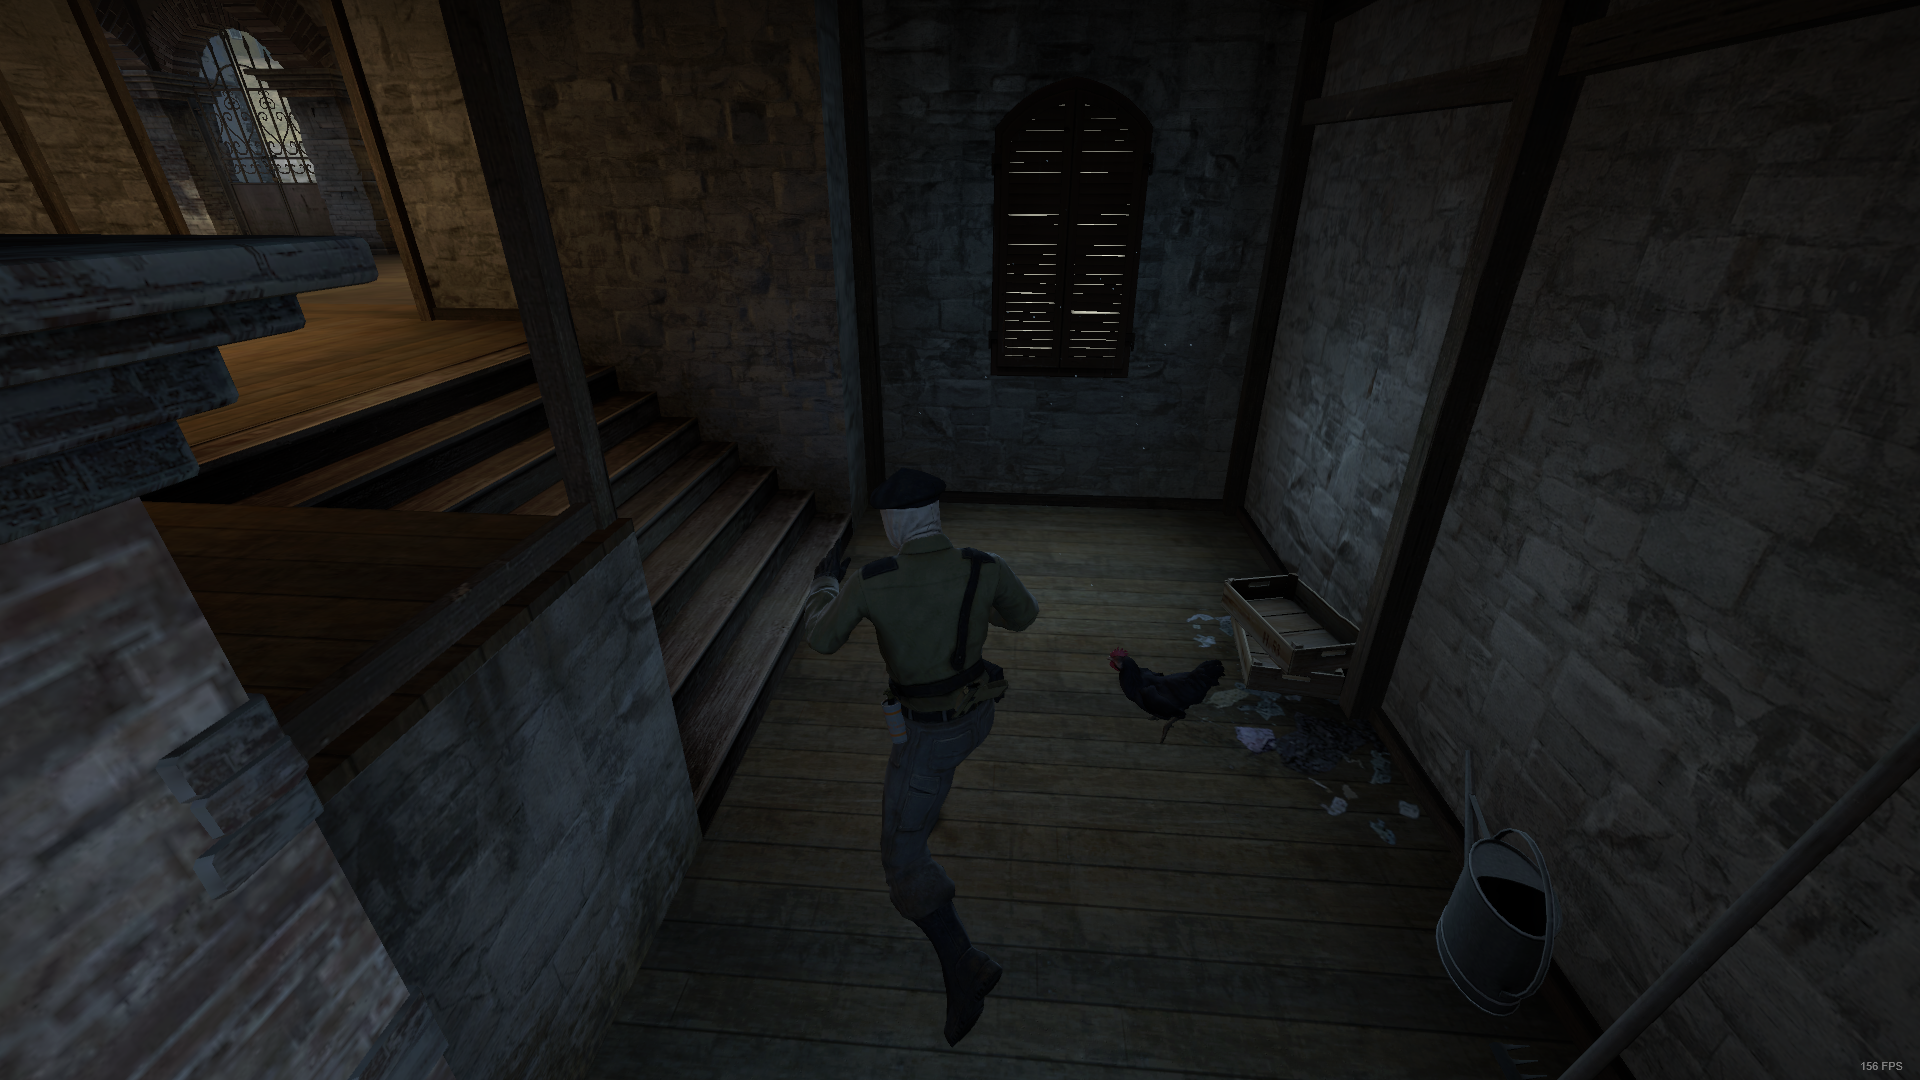t: (806, 469, 1040, 1048)
